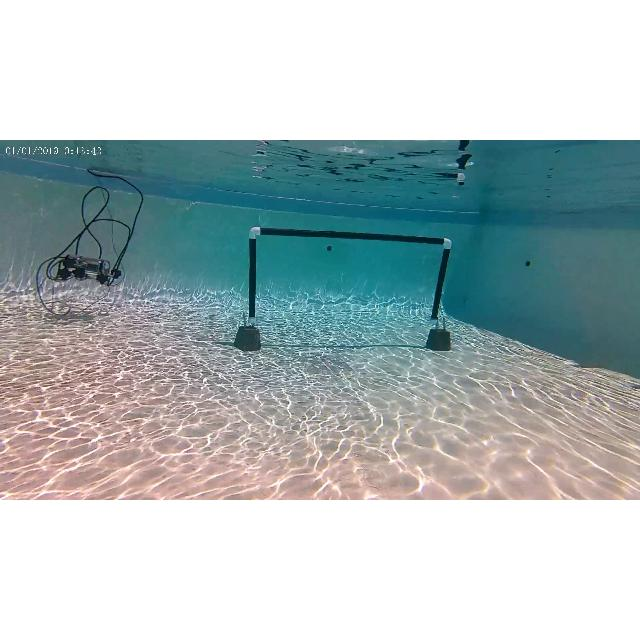prequal gate: (248, 226, 452, 326)
prequal gate leg l: (246, 227, 260, 351)
prequal gate leg r: (433, 236, 461, 346)
